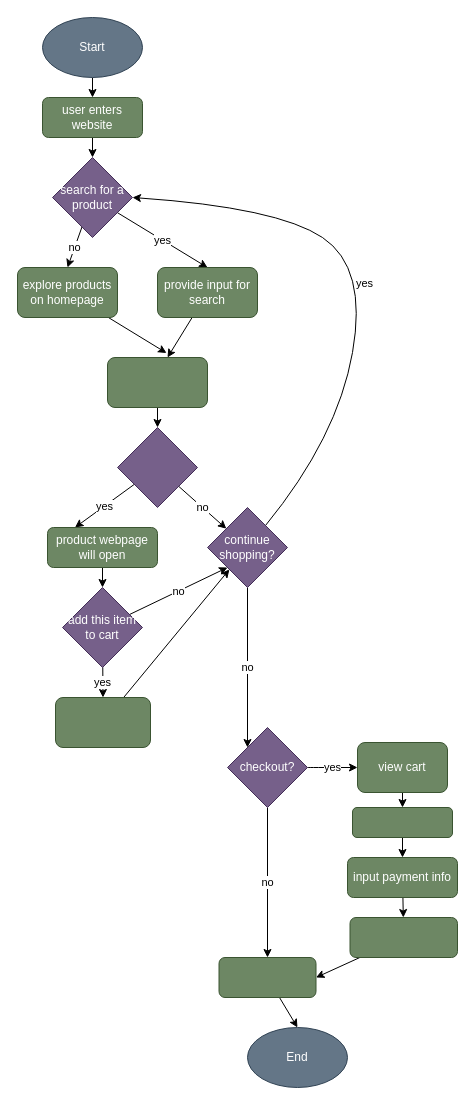
The diagram is 475 pixels wide and 1105 high, and some of its shapes have lost their labels. Each missing label, with the centre of its shape:
added to cart confirmation: (102,722)
confirmation screen & email: (403,937)
leave website: (267,977)
look over products: (157,382)
payment screen: (402,822)
view specific product: (157,467)
